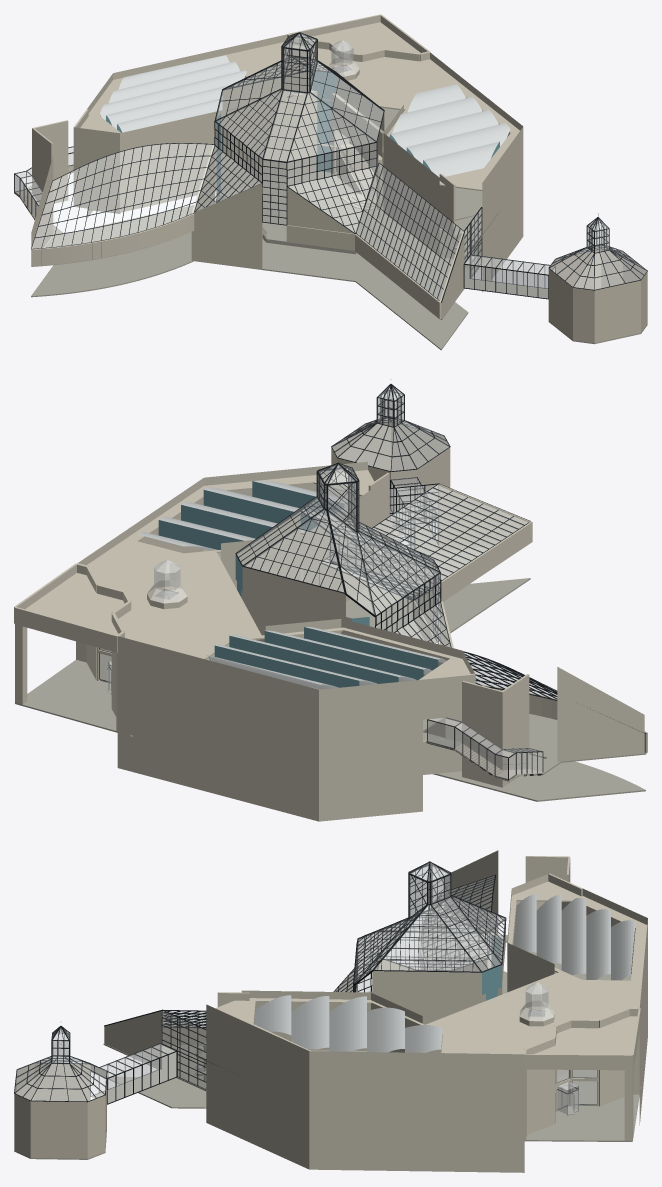
File: MUDAM_R16_DIS_PROFIL_MALZEME_v002_preview.glb
3 renders of one model, top to bottom at view 1: azimuth 30°, elevation 25°; view 2: azimuth 150°, elevation 25°; view 3: azimuth 270°, elevation 25°, orthographic. The views are drawn at different scales.
Parts seen in each view (by area): view 1: P05_ZONE_LM1_GALLERIES_FOYER, P05_MAIN_ROOF_DECK, P04_PAV_WALL_ENVELOPE, P05_GALLERY_HALL_WEST1, P05_MAIN_ATRIUM_BASE_3, R07_STAIRWELL_STONE_NORTH, P05_FRONT_0, P05_GALLERY_HALL_EAST1, P05_FLOOR_L00_GH, P05_GALLERY_HALL_WEST2, P05_FLOOR_L00_EAST_GARDEN, P05_FLOOR_L00_WEST_CAFE (+20 smaller); view 2: P05_FRONT_9, P05_MAIN_ROOF_DECK, P05_FRONT_10, P05_ZONE_LM1_GALLERIES_FOYER, P05_WEST_END, P04_PAV_WALL_ENVELOPE, P07_CANOPY_PAVING_DISPLAY, P05_GALLERY_HALL_EAST1, R14_INNER_WALL_B, R11_STONE_END, P07_CANOPY_SLAB_ENVELOPE, P05_FLOOR_L00_EAST_GARDEN (+29 smaller); view 3: P05_FRONT_1, P05_MAIN_ROOF_DECK, P05_FRONT_0, P04_PAV_WALL_ENVELOPE, P07_CANOPY_PAVING_DISPLAY, P06_HIGH_EAVE_UPSTAND_5, P07_CANOPY_SLAB_ENVELOPE, P05_WEST_END, R11_STONE_END, P07_ENTRY_RETURN_1, P07_CANOPY_FASCIA_0, P05_MAIN_ATRIUM_BASE_5_R02_BEFORE_R04_ABOVE (+14 smaller).
Part boxes in pixels (x1,y1,x2,y2): P05_ZONE_LM1_GALLERIES_FOYER: [31, 232, 468, 350]; P05_MAIN_ROOF_DECK: [75, 42, 522, 190]; P04_PAV_WALL_ENVELOPE: [548, 249, 647, 342]; P05_GALLERY_HALL_WEST1: [120, 110, 224, 212]; P05_MAIN_ATRIUM_BASE_3: [221, 91, 317, 191]; R07_STAIRWELL_STONE_NORTH: [191, 183, 262, 269]; P05_FRONT_0: [482, 127, 523, 292]; P05_GALLERY_HALL_EAST1: [383, 133, 439, 256]; P05_FLOOR_L00_GH: [216, 172, 383, 251]; P05_GALLERY_HALL_WEST2: [73, 127, 119, 212]; P05_FLOOR_L00_EAST_GARDEN: [357, 213, 482, 319]; P05_FLOOR_L00_WEST_CAFE: [31, 200, 215, 266]; P05_FRONT_9: [117, 636, 318, 821]; P05_MAIN_ROOF_DECK: [87, 470, 475, 699]; P05_FRONT_10: [319, 679, 422, 821]; P05_ZONE_LM1_GALLERIES_FOYER: [433, 578, 645, 801]; P05_WEST_END: [557, 667, 644, 761]; P04_PAV_WALL_ENVELOPE: [331, 422, 450, 523]; P07_CANOPY_PAVING_DISPLAY: [15, 660, 117, 732]; P05_GALLERY_HALL_EAST1: [303, 484, 379, 601]; R14_INNER_WALL_B: [462, 681, 503, 787]; R11_STONE_END: [439, 484, 530, 550]; P07_CANOPY_SLAB_ENVELOPE: [25, 573, 124, 635]; P05_FLOOR_L00_EAST_GARDEN: [346, 546, 492, 623]; P05_FRONT_1: [309, 1051, 524, 1172]; P05_MAIN_ROOF_DECK: [207, 881, 647, 1062]; P05_FRONT_0: [206, 1004, 309, 1169]; P04_PAV_WALL_ENVELOPE: [14, 1063, 106, 1158]; P07_CANOPY_PAVING_DISPLAY: [524, 1094, 639, 1141]; P06_HIGH_EAVE_UPSTAND_5: [372, 971, 481, 994]; P07_CANOPY_SLAB_ENVELOPE: [535, 1016, 637, 1054]; P05_WEST_END: [444, 850, 498, 935]; R11_STONE_END: [104, 1011, 163, 1069]; P07_ENTRY_RETURN_1: [524, 1037, 554, 1134]; P07_CANOPY_FASCIA_0: [524, 1054, 632, 1070]; P05_MAIN_ATRIUM_BASE_5_R02_BEFORE_R04_ABOVE: [381, 993, 480, 1024].
Size of the model in its own units: 80.45 by 35.94 by 93.32.
